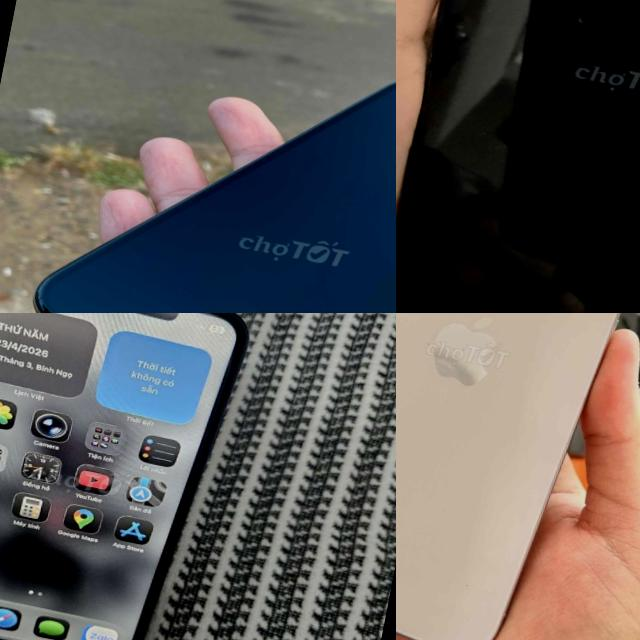scratch: (442, 0, 501, 60), (554, 0, 600, 36), (457, 576, 474, 592)
